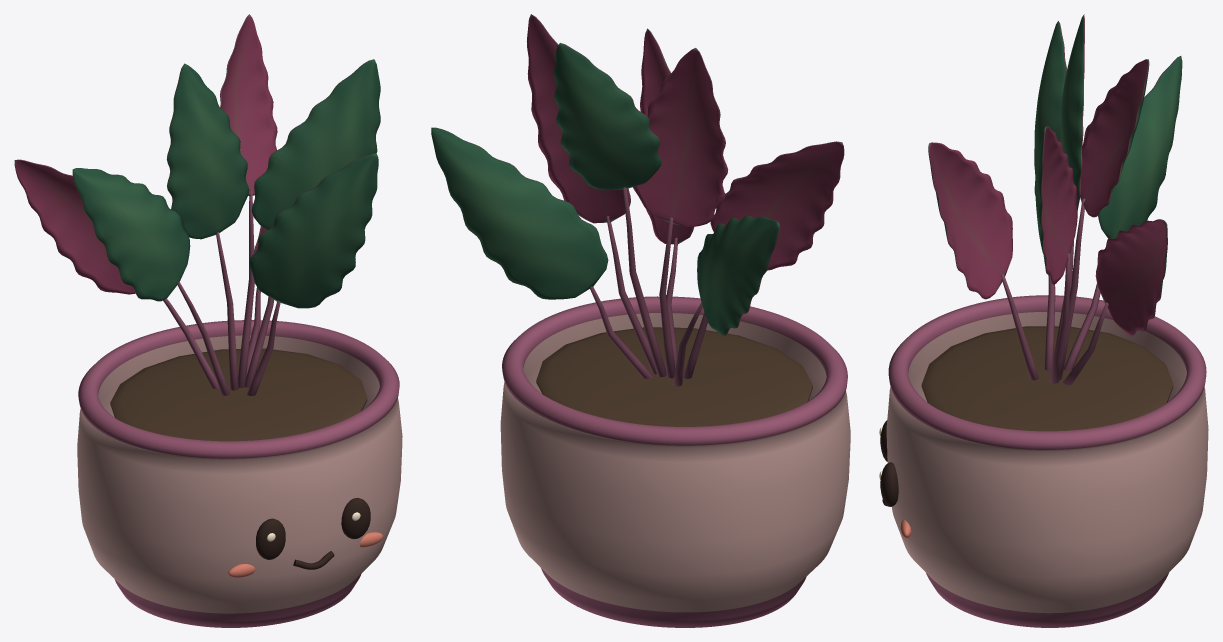
The model's file is stromanthe-v1.glb.
3 renders of one model, left to right at view 1: azimuth 30°, elevation 25°; view 2: azimuth 150°, elevation 25°; view 3: azimuth 270°, elevation 25°, orthographic. The views are drawn at different scales.
Parts seen in each view (by area): view 1: Wheel-thrown ceramic, Stromanthe dark emerald and wine, Soil, Eye, Eye.001; view 2: Wheel-thrown ceramic, Stromanthe dark emerald and wine, Soil; view 3: Wheel-thrown ceramic, Stromanthe dark emerald and wine, Soil, Eye.001.
Boxes of the visible parts, x1,y1,x2,y2 form: Wheel-thrown ceramic: (77, 320, 402, 627); Stromanthe dark emerald and wine: (14, 14, 380, 395); Soil: (110, 348, 367, 441); Eye: (256, 518, 285, 559); Eye.001: (341, 498, 370, 539); Wheel-thrown ceramic: (500, 296, 850, 627); Stromanthe dark emerald and wine: (431, 14, 844, 386); Soil: (536, 327, 812, 426); Wheel-thrown ceramic: (886, 295, 1208, 627); Stromanthe dark emerald and wine: (928, 14, 1182, 384); Soil: (921, 326, 1173, 431); Eye.001: (880, 462, 898, 506).
Bounding box in the file's own units: 1.87 × 2.81 × 1.53.
